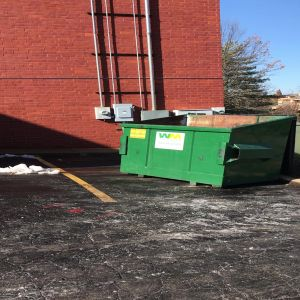Dumpster: (115, 112, 298, 197)
